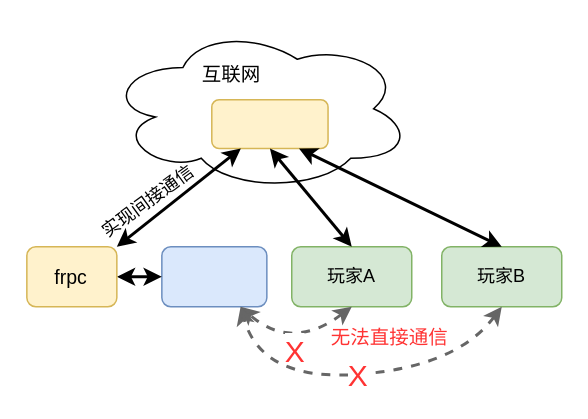
Image size: 588x419. Some labels were removed from this diagram. Each missing label, with the centre of its shape:
"frps" belongs at pixel 269 123.
"游戏进程" belongs at pixel 213 276.
